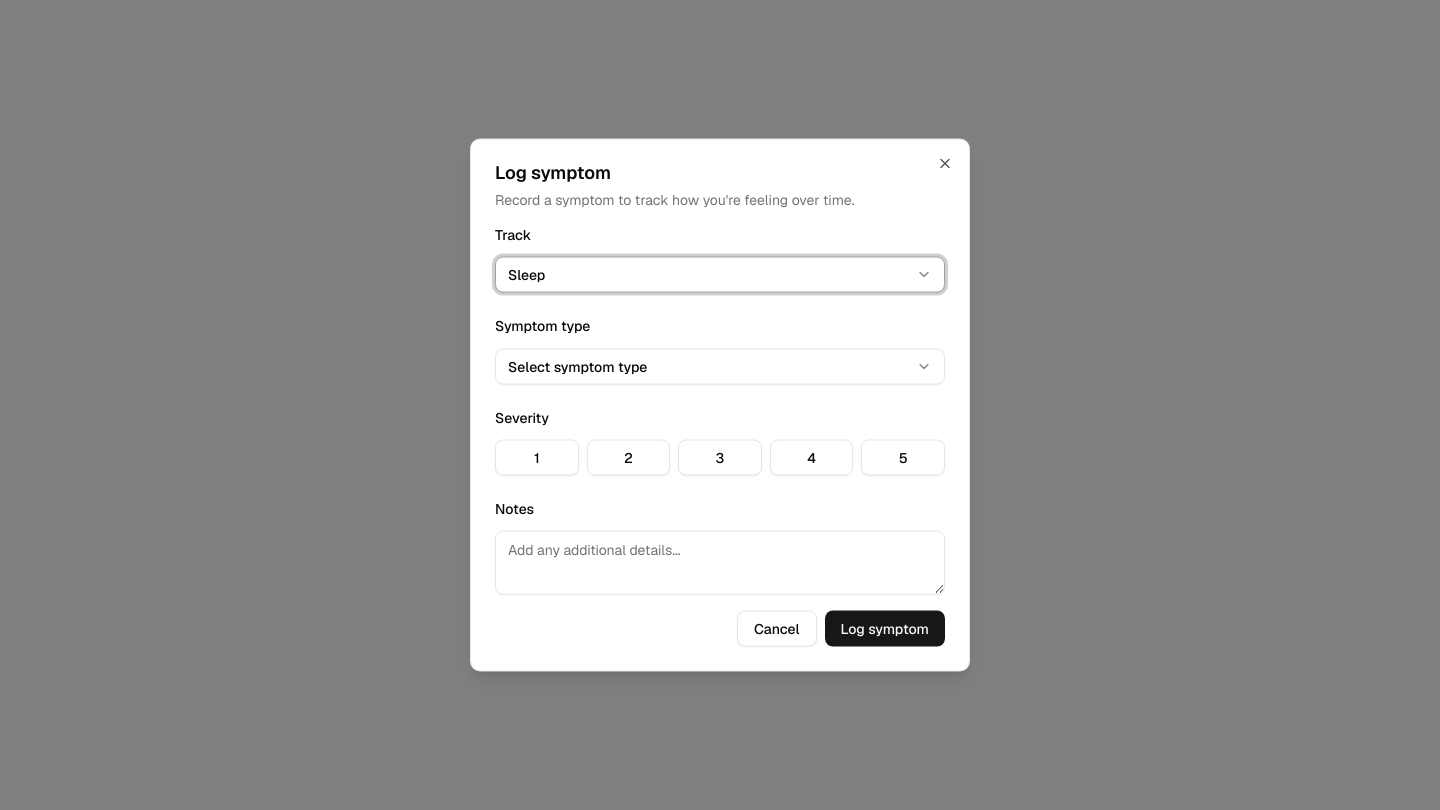
Test: SymptomDialogue › displays error message on API failure
Note: Fill required fields first
Click the dropdown labelled "Select symptom type" at coordinates (578, 366), box [495,348,945,384]
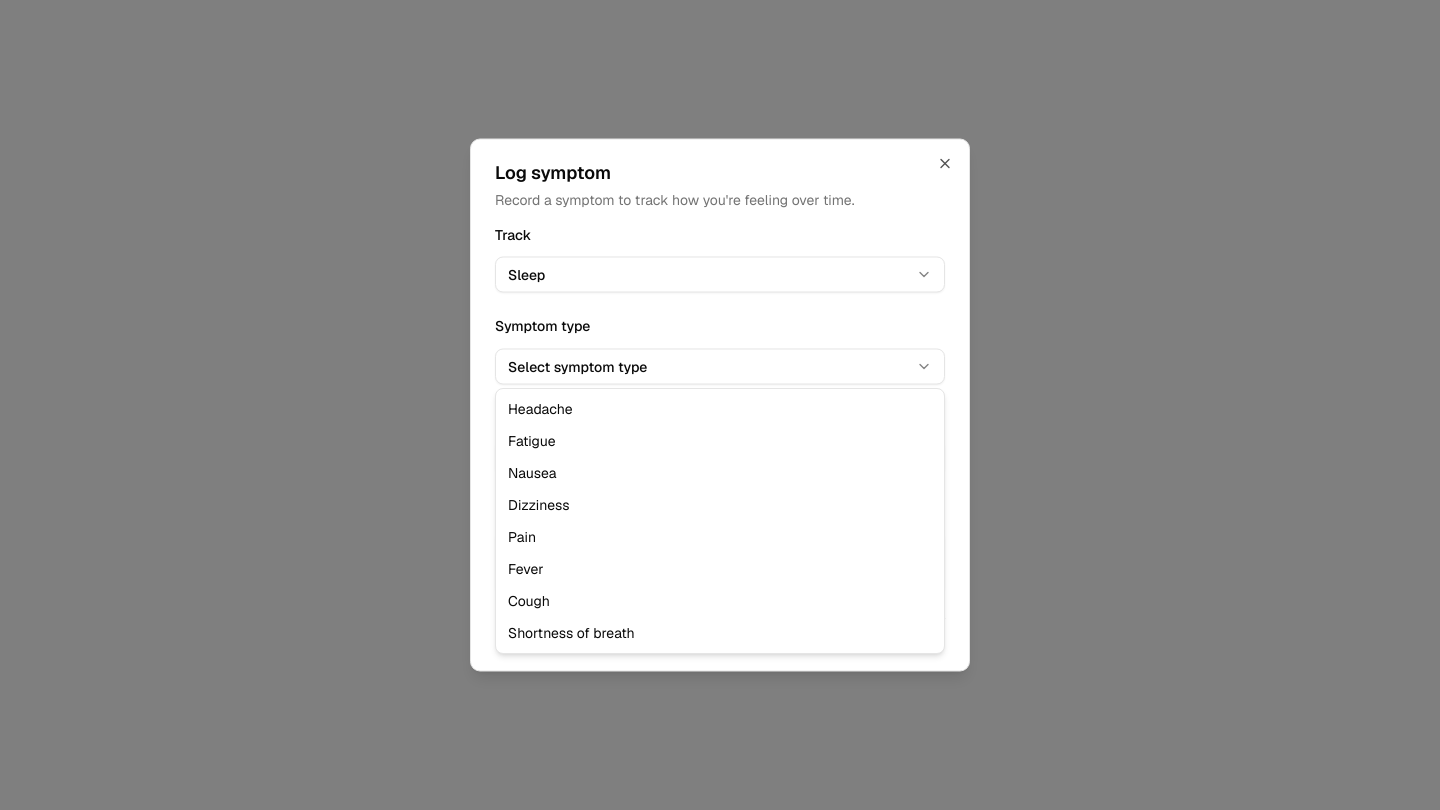
Click the menu item "Headache" at coordinates (540, 409), box [508,400,572,418]
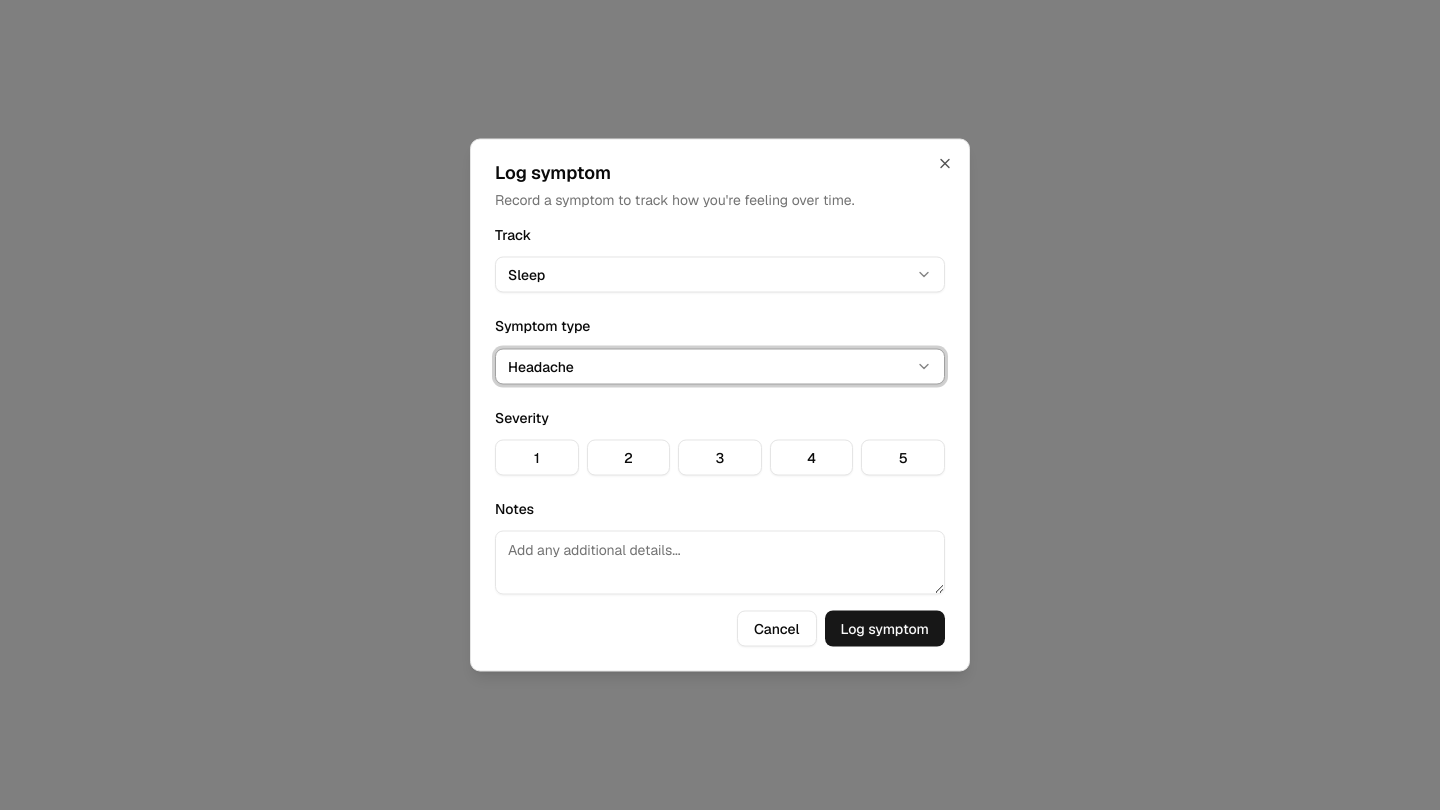
Click the button named "Severity 3: Moderate" at coordinates (720, 457), box [678,439,762,475]
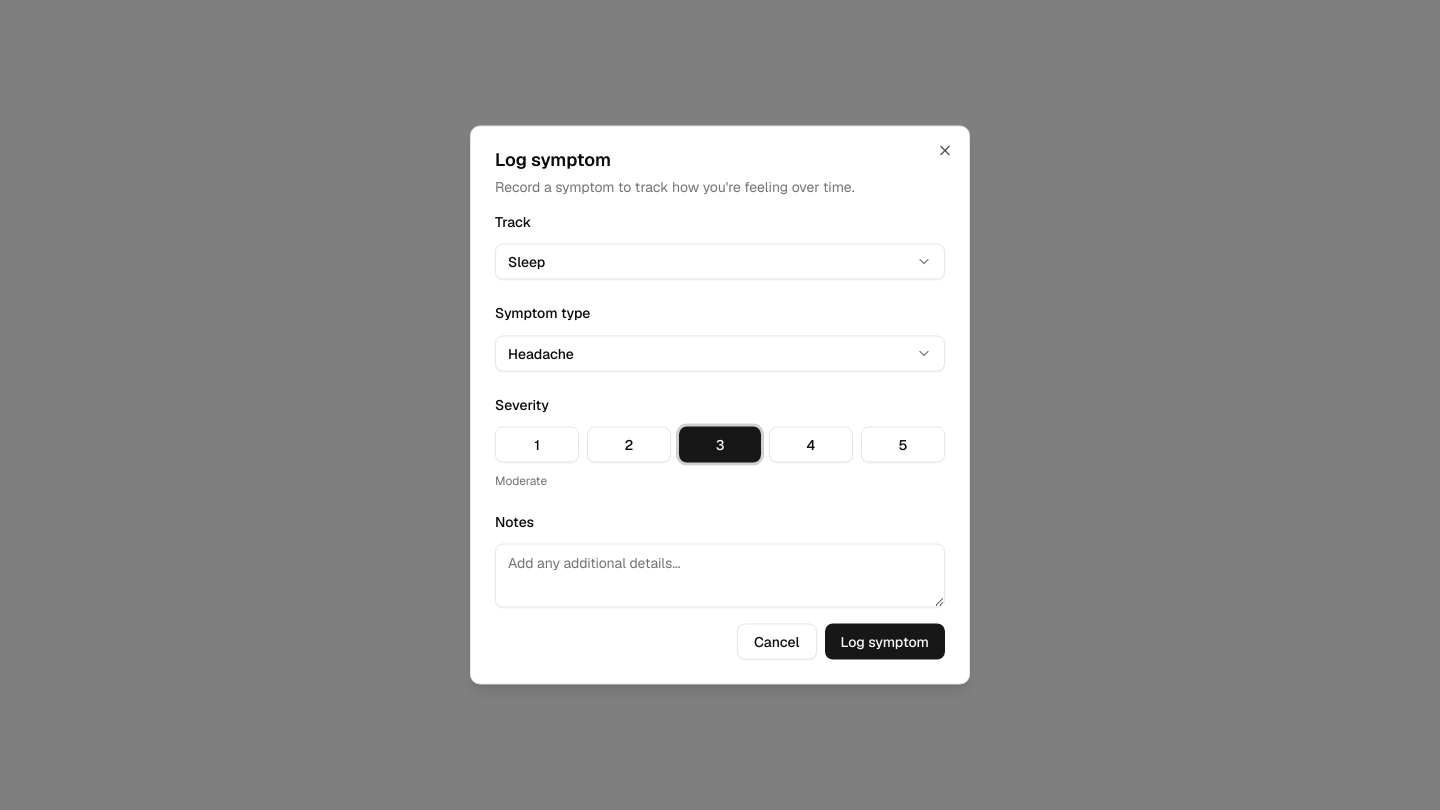
Click the button "Log symptom" at coordinates (885, 642), box [824,624,945,660]
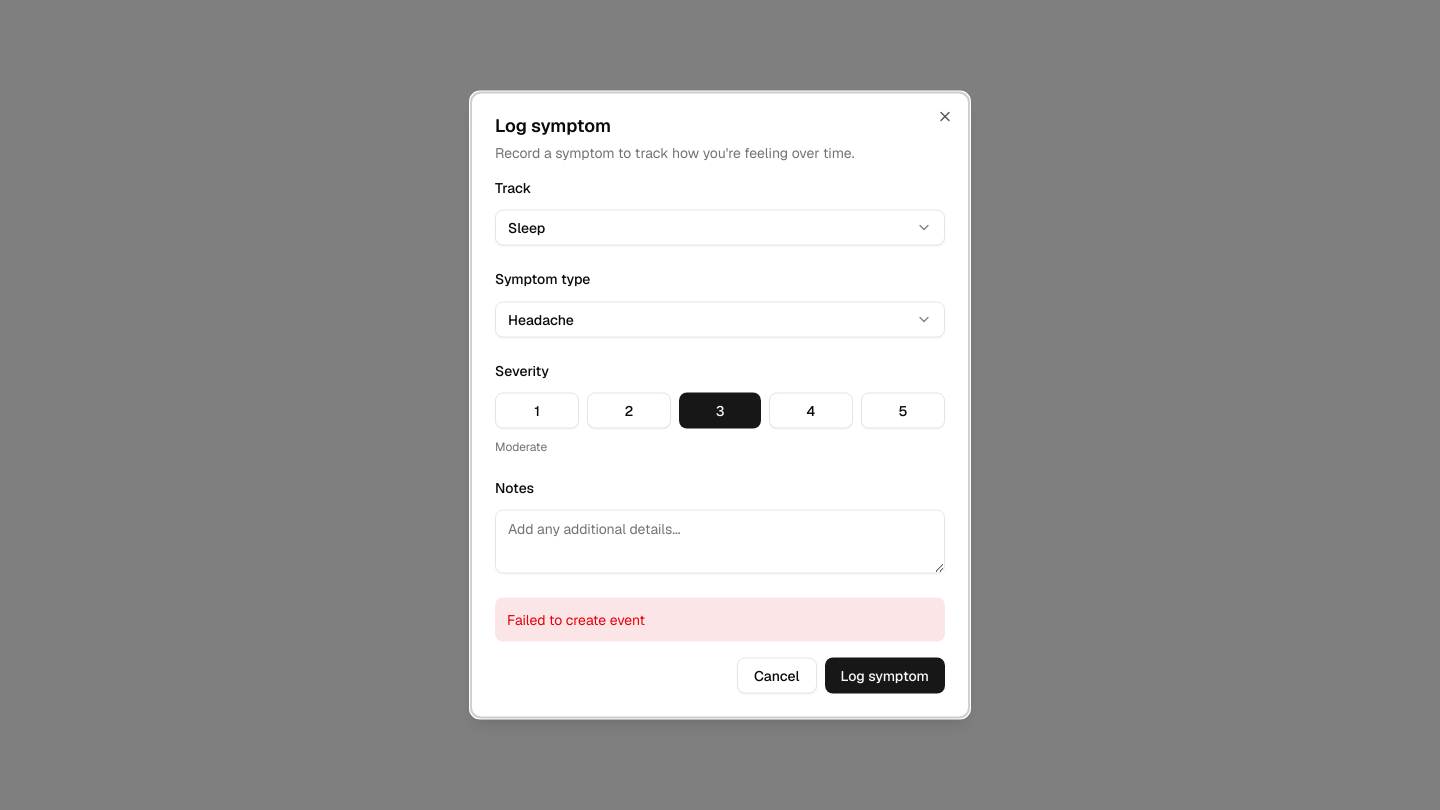
Expected: the text "Failed to create event" is shown, [495,598,945,642]
